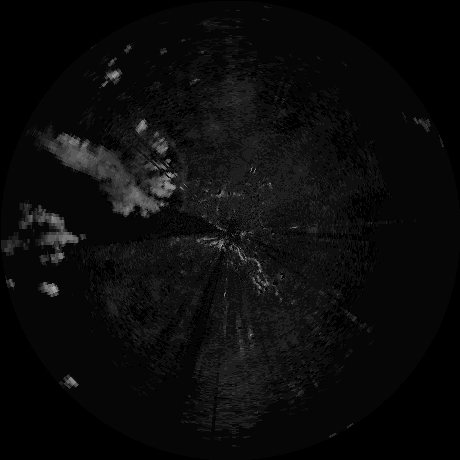frontgust: (176, 149, 189, 212)
